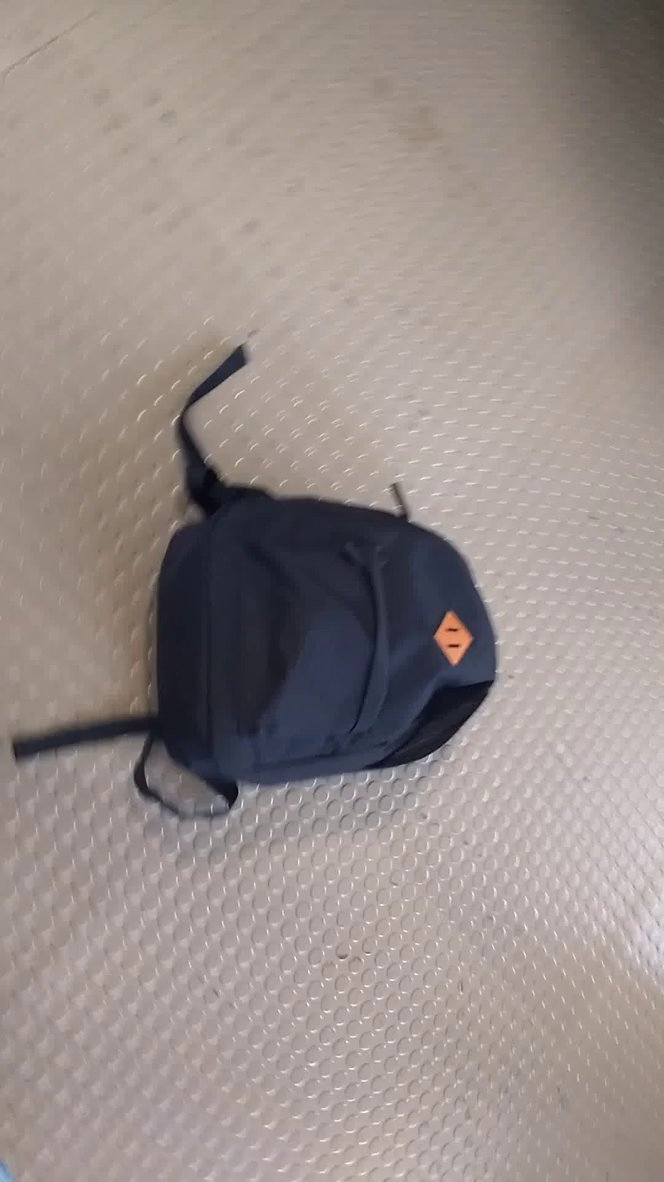bag: (2, 328, 521, 829)
